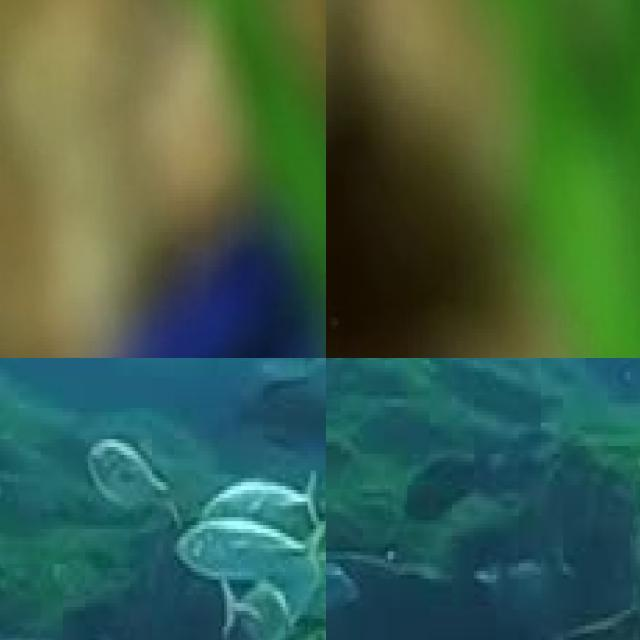fish: (3, 0, 326, 358)
